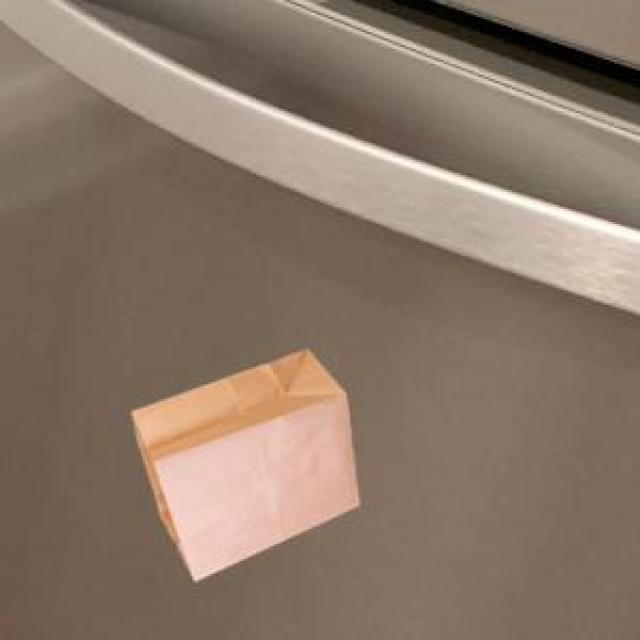paper: (128, 346, 354, 576)
